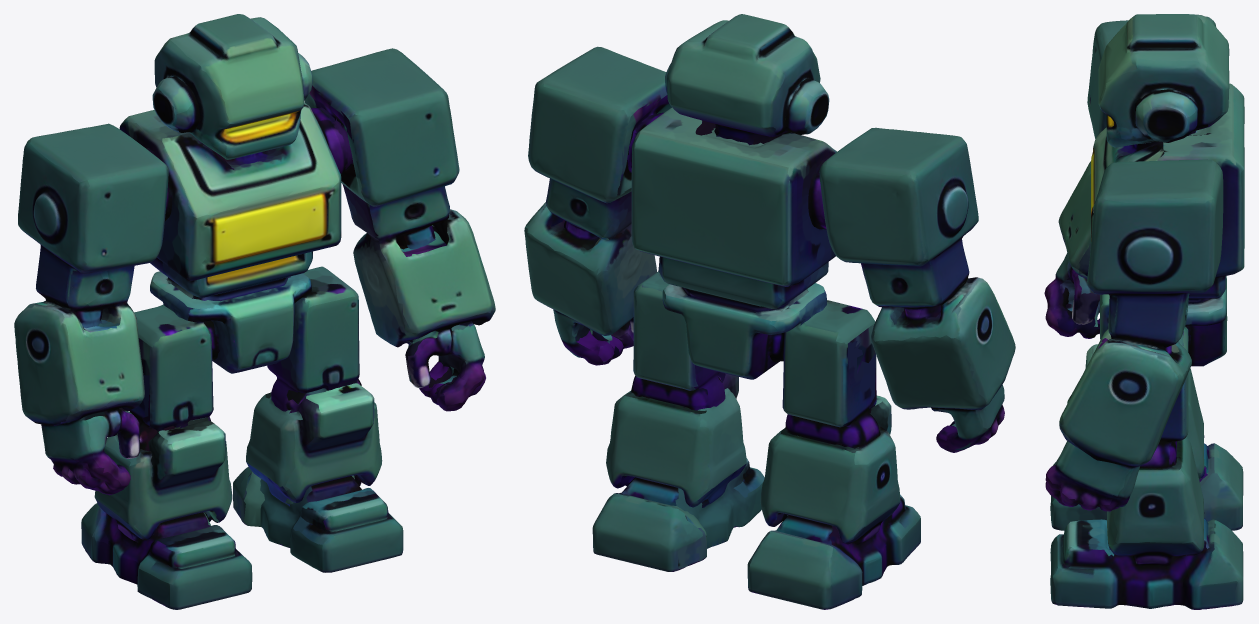
File: nexus-voxel-mesh.glb
3 renders of one model, left to right at view 1: azimuth 30°, elevation 25°; view 2: azimuth 150°, elevation 25°; view 3: azimuth 270°, elevation 25°, orthographic. The views are drawn at different scales.
Parts seen in each view (by area): view 1: tmp6ndqqlhg.ply; view 2: tmp6ndqqlhg.ply; view 3: tmp6ndqqlhg.ply.
Part boxes in pixels (bbox=[...]): tmp6ndqqlhg.ply: bbox=[14, 14, 495, 609]; tmp6ndqqlhg.ply: bbox=[524, 14, 1015, 609]; tmp6ndqqlhg.ply: bbox=[1044, 14, 1244, 609].
Size of the model in its own units: 0.8964 by 0.9881 by 0.3421.
1 material, 1 textured.
